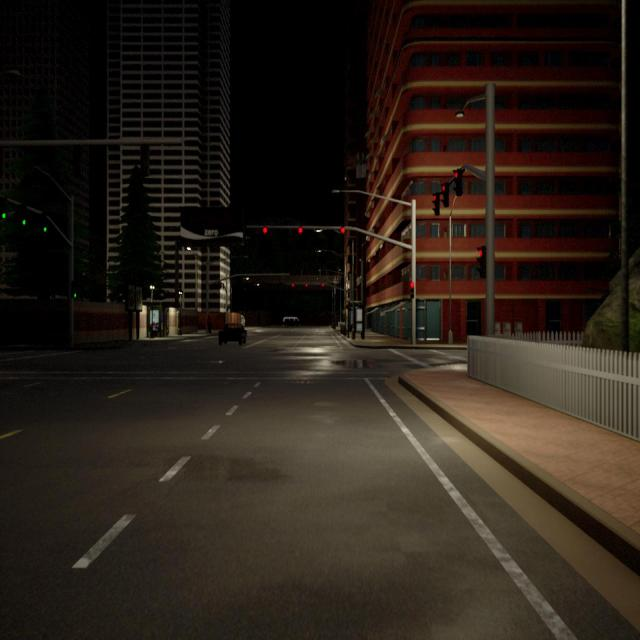Pedestrian: (206, 315, 212, 334)
Vehicle: (218, 323, 247, 346), (282, 317, 300, 328), (240, 314, 246, 327)
traffic_light: (476, 246, 487, 278), (140, 142, 150, 177), (453, 169, 463, 196), (440, 182, 450, 208), (0, 196, 7, 220), (432, 192, 439, 216), (21, 204, 27, 227), (41, 212, 47, 232), (70, 282, 76, 298), (410, 281, 414, 299), (262, 226, 268, 234), (298, 226, 303, 234), (340, 226, 345, 234), (291, 283, 295, 287), (305, 283, 308, 287), (322, 283, 324, 287)
